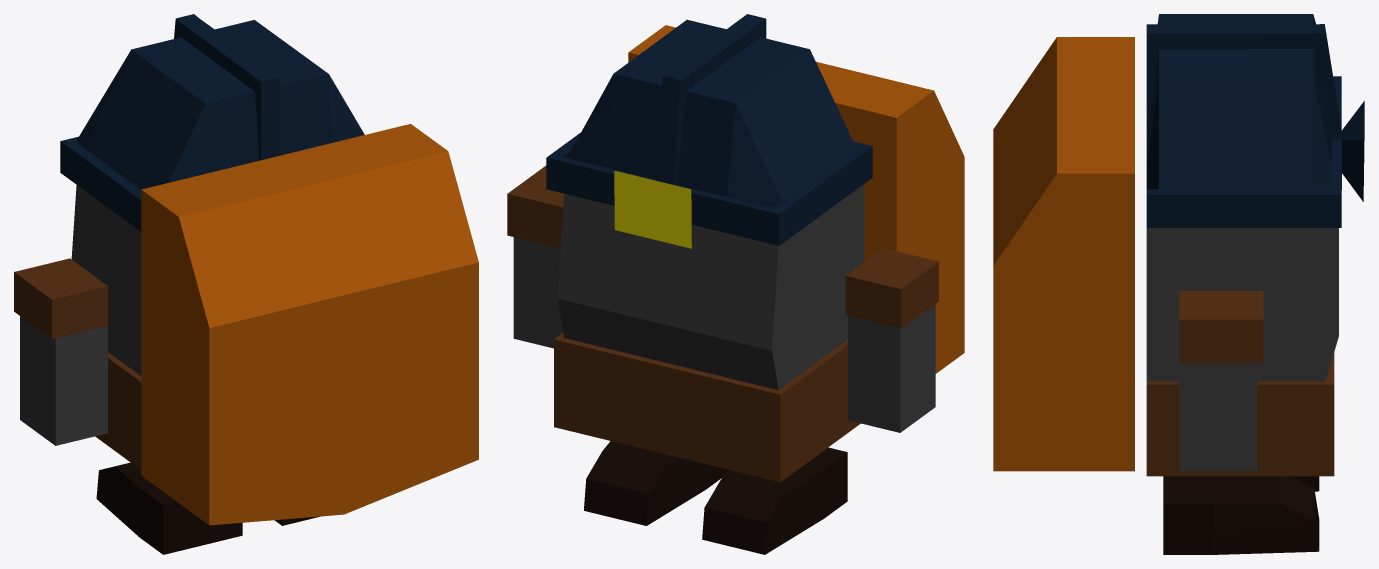
The model's file is player2.fbx.
3 views of the same model, side by side, from view 1: azimuth 30°, elevation 25°; view 2: azimuth 150°, elevation 25°; view 3: azimuth 270°, elevation 25° (orthographic). The views are drawn at different scales.
Visible parts, largest first — view 1: Plane.001; view 2: Plane.001; view 3: Plane.001.
Boxes of the visible parts, <box> form: Plane.001: <box>14,14,478,554</box>; Plane.001: <box>507,14,964,554</box>; Plane.001: <box>993,14,1364,554</box>.
Bounding box in the file's own units: 367 × 407 × 287.
